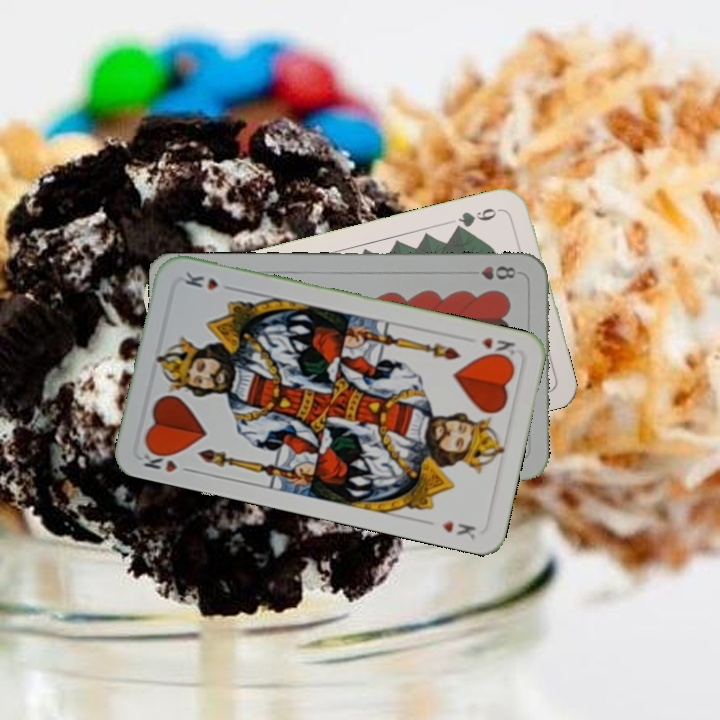G9: (450, 204, 506, 234)
H8: (464, 261, 519, 282)
HK: (139, 443, 196, 475), (477, 333, 518, 363)
